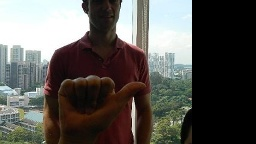Pugno: (49, 72, 151, 138)
